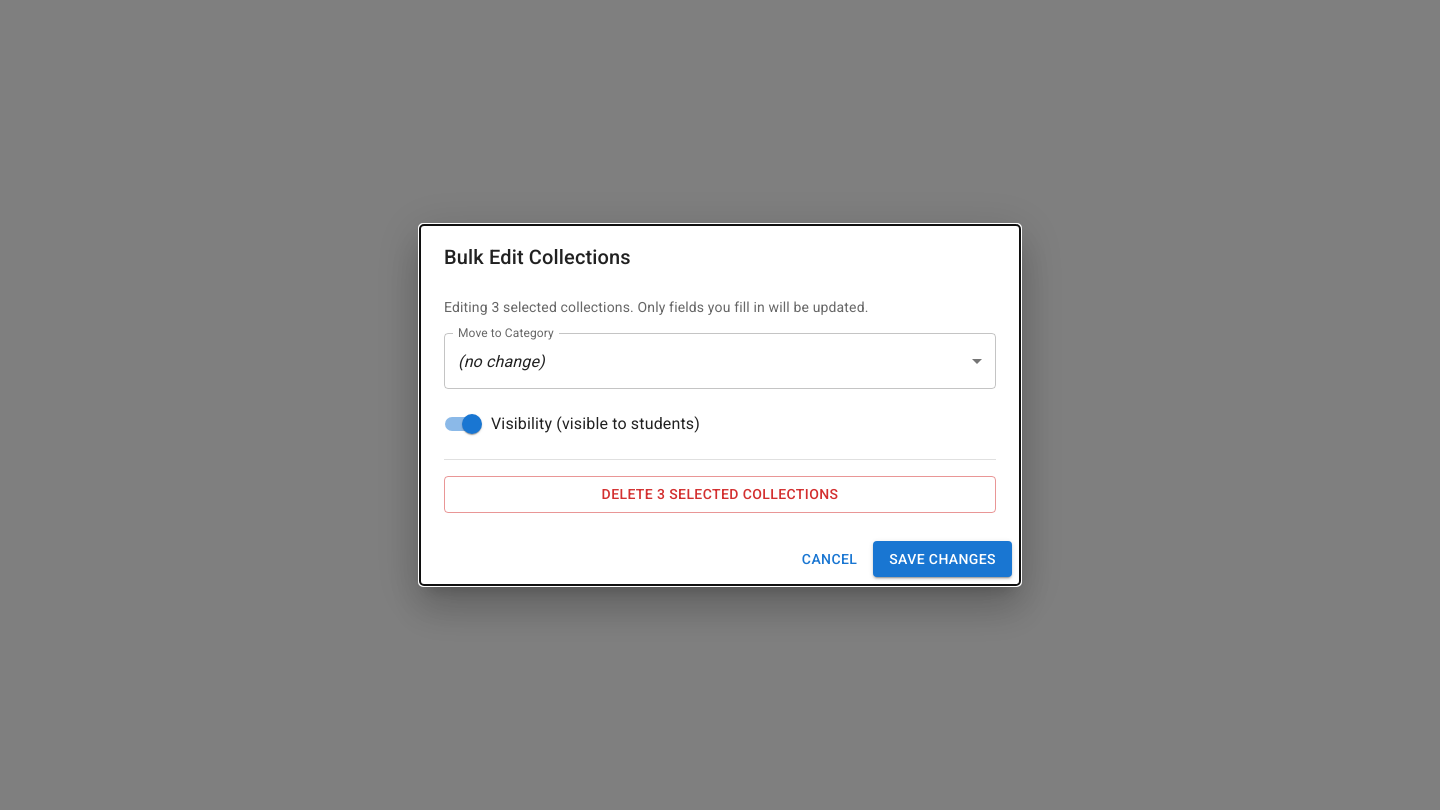
Test case: BulkEditCollectionsDialog (#1578) › warns when selected private collections are filed into a category
Click the dropdown: point(501, 361) [458, 352, 545, 370]
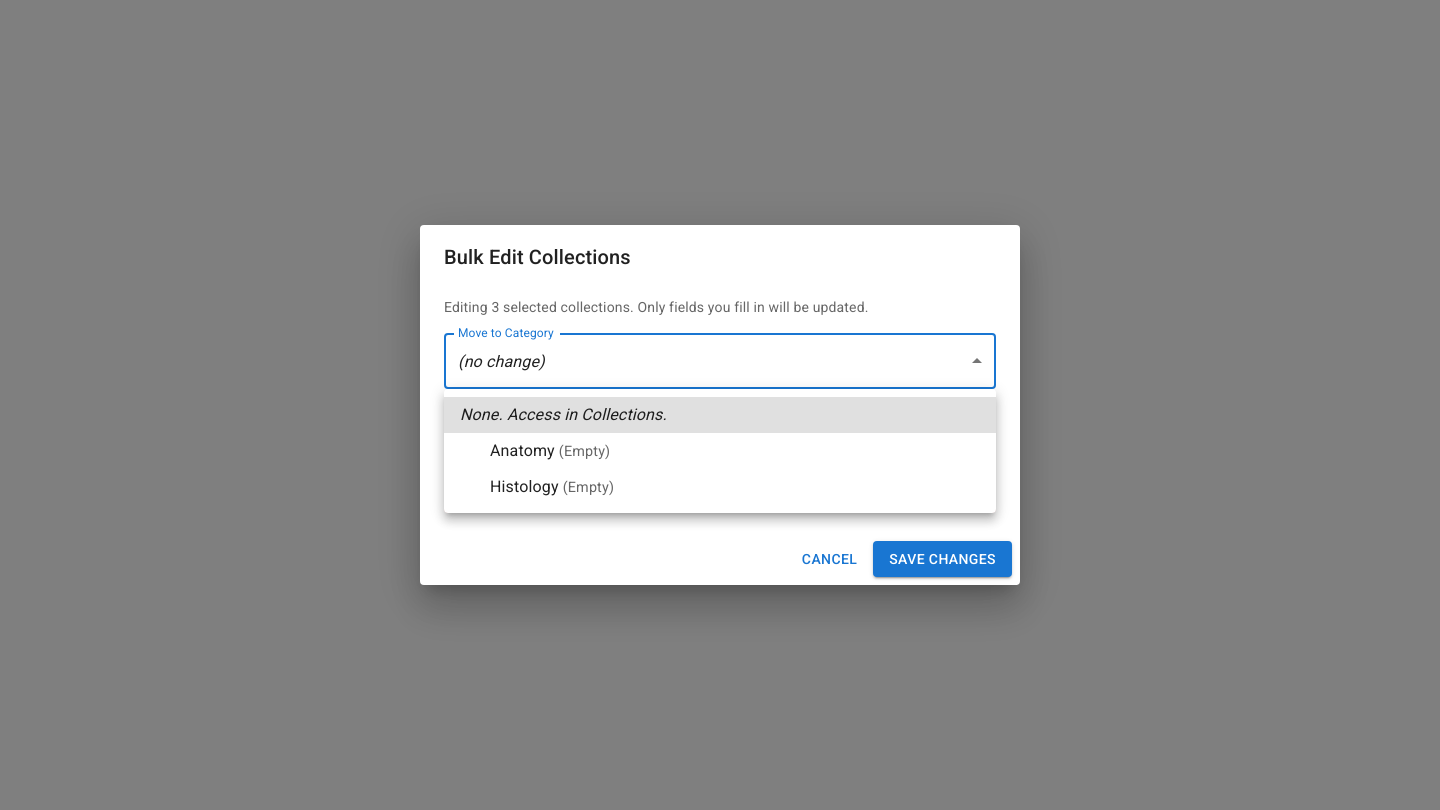
Click the option "Histology(Empty)": point(552, 486) [490, 477, 614, 496]
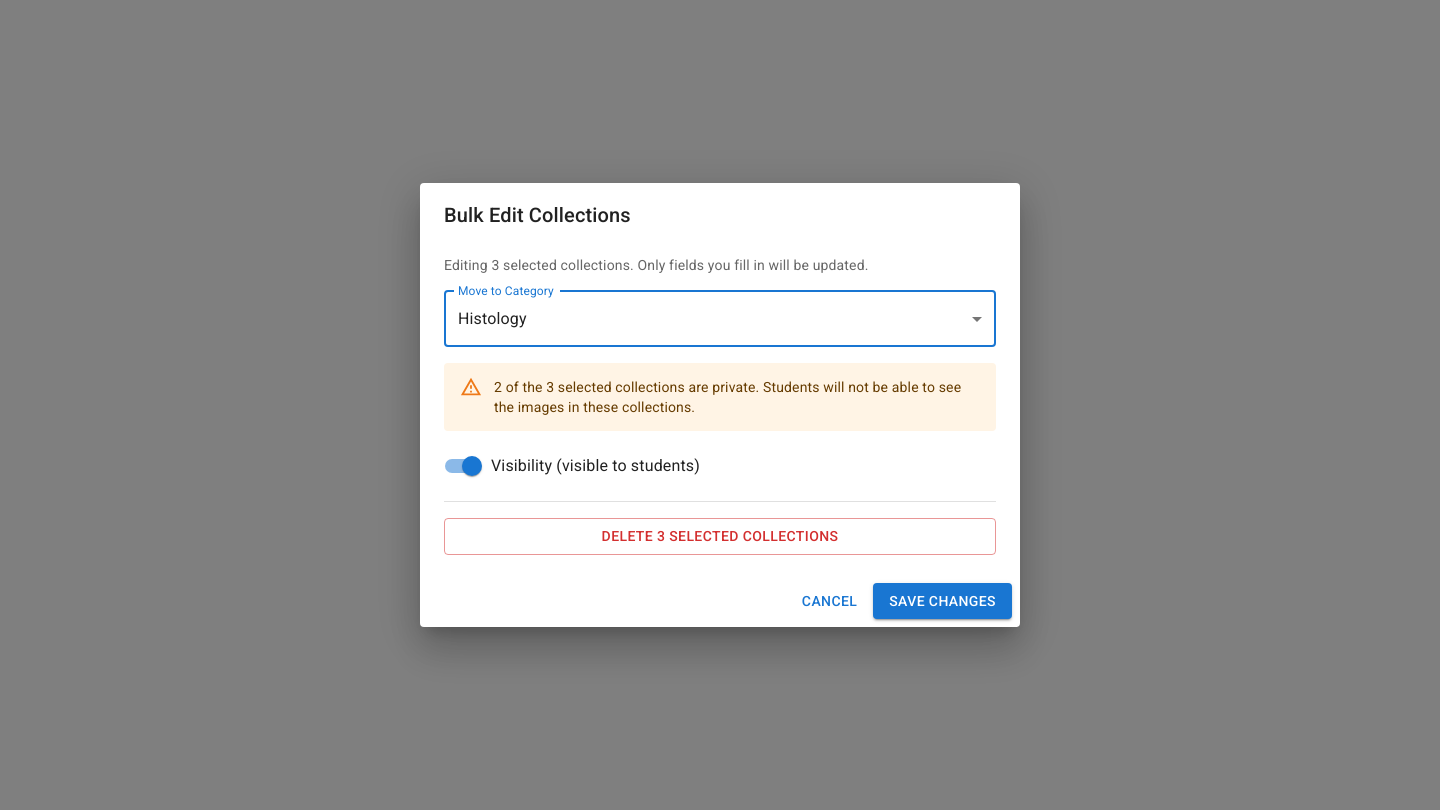
Expected: the message shows "2 of the 3 selected collections are private. Students will not be able to see the images in these collections.", [494, 379, 961, 415]
